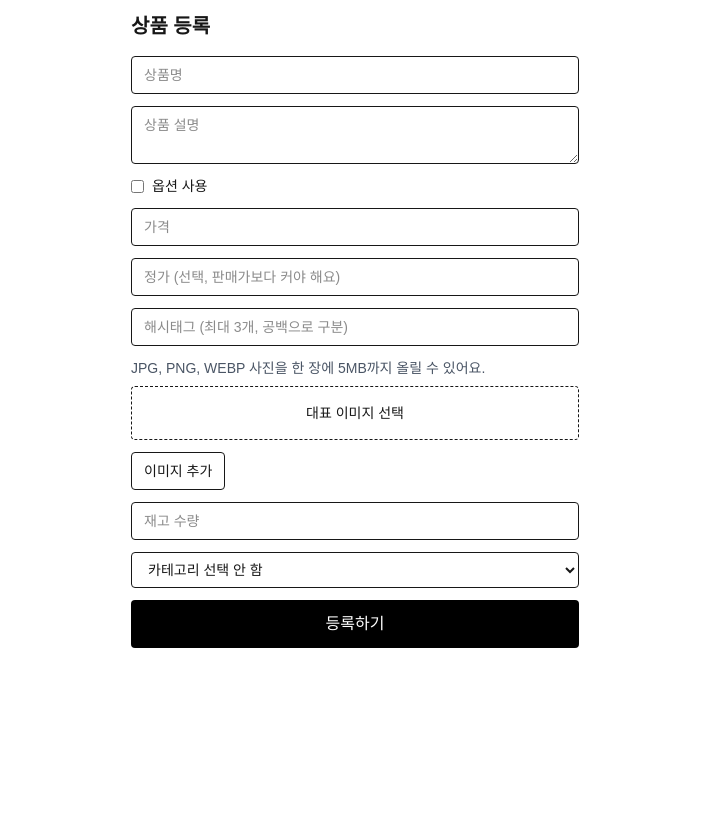
Scenario: AdminProductForm 옵션 › 성공: 옵션 사용을 켜면 단일 가격·정가·재고 칸이 사라지고 옵션 행이 나온다
Expected: the field labelled "색상 옵션 사용" is not shown
Click the checkbox labelled "옵션 사용": (138, 186) [131, 180, 144, 192]
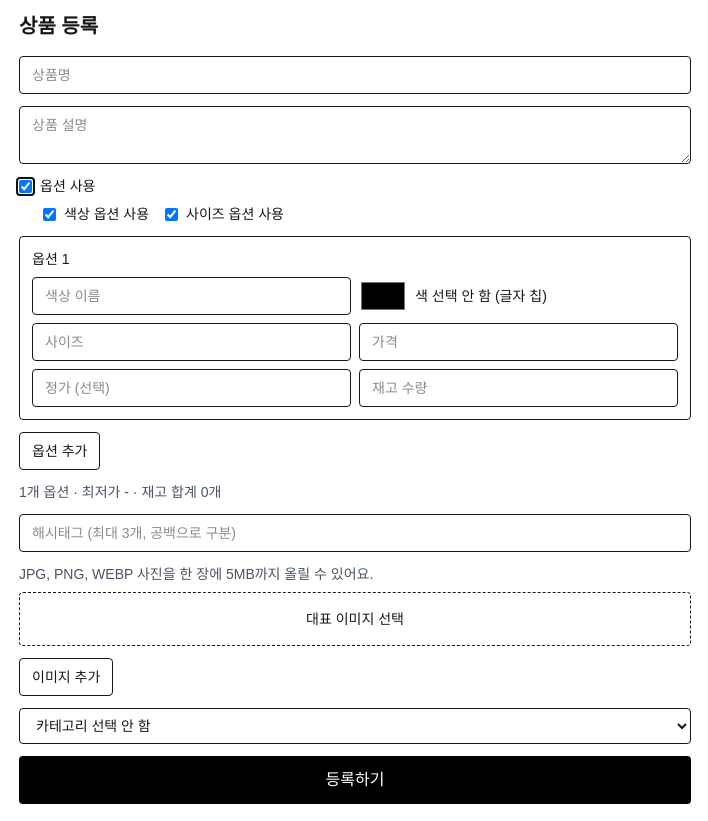
Result: the checkbox labelled "색상 옵션 사용" is checked at [43, 208, 56, 220]
Result: the checkbox labelled "사이즈 옵션 사용" is checked at [165, 208, 178, 220]
Result: the field named "옵션 1 색상 이름" is shown at [32, 277, 351, 315]
Click the checkbox labelled "옵션 사용": (26, 186) [19, 180, 32, 192]
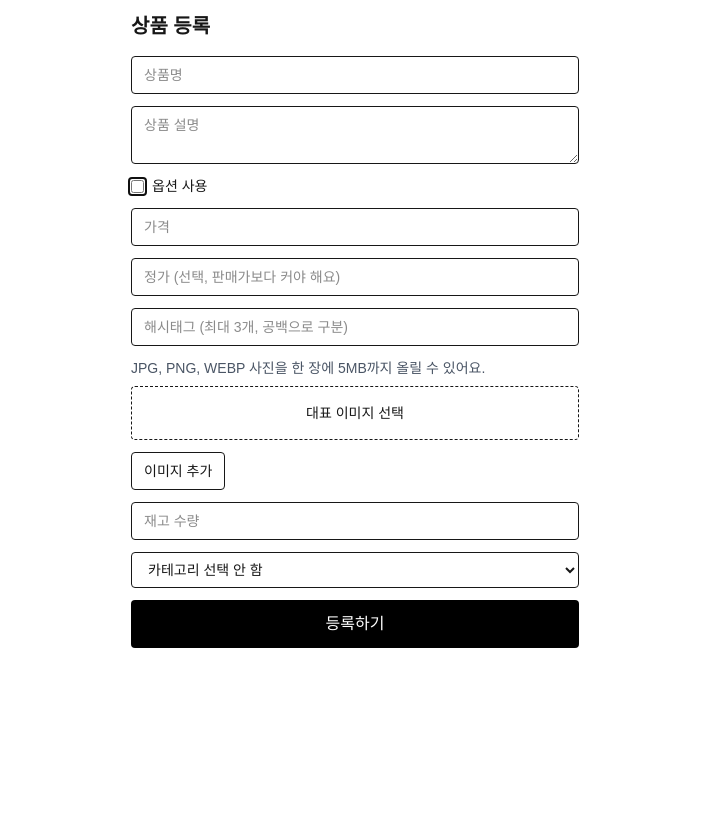
Expected: the field labelled "옵션 1 가격" is not shown
Result: the number field labelled "가격" is shown at [131, 208, 579, 246]
Result: the number field labelled "재고 수량" is shown at [131, 502, 579, 540]
